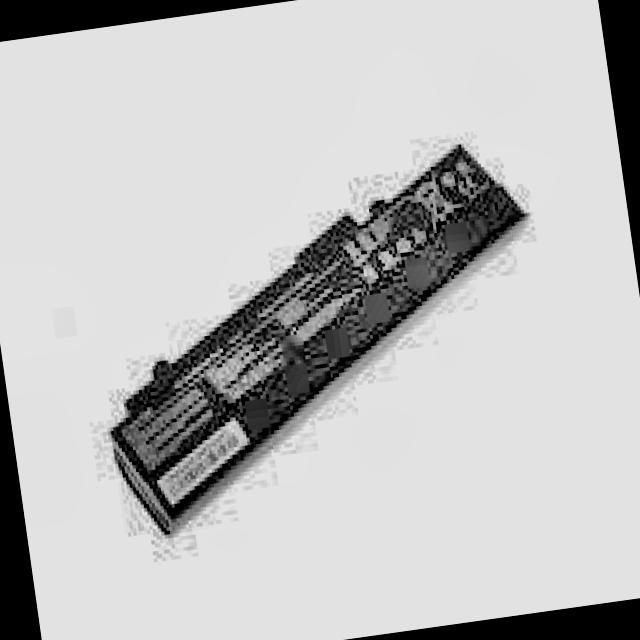Battery: (79, 140, 562, 540)
